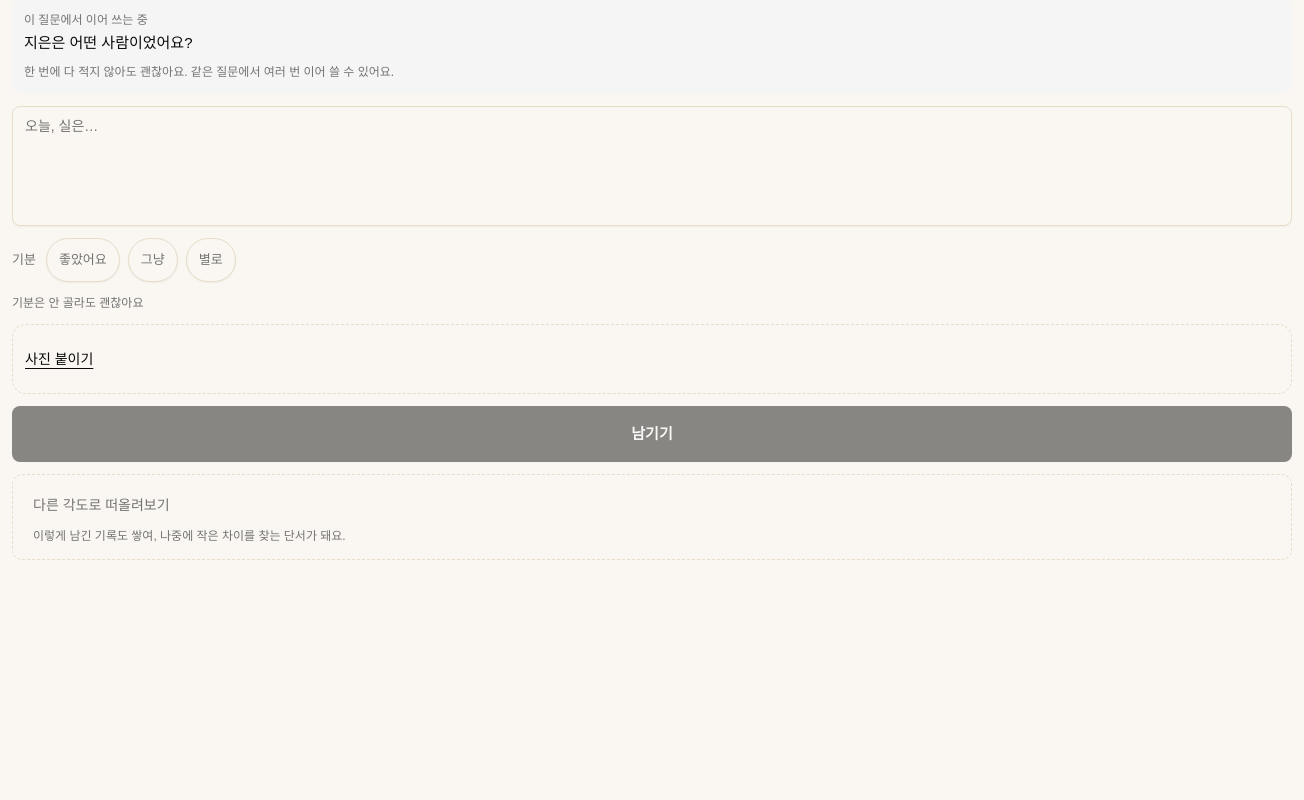
Scenario: RecordForm › 원할 때만 생각 단서를 한 가지씩 바꿔 보여준다
This screenshot has width=1304, height=800.
Expected: the text "같이 떠오르는 장면이 있나요?" is not shown
Click the button "다른 각도로 떠올려보기" at (101, 505), box [25, 483, 178, 527]
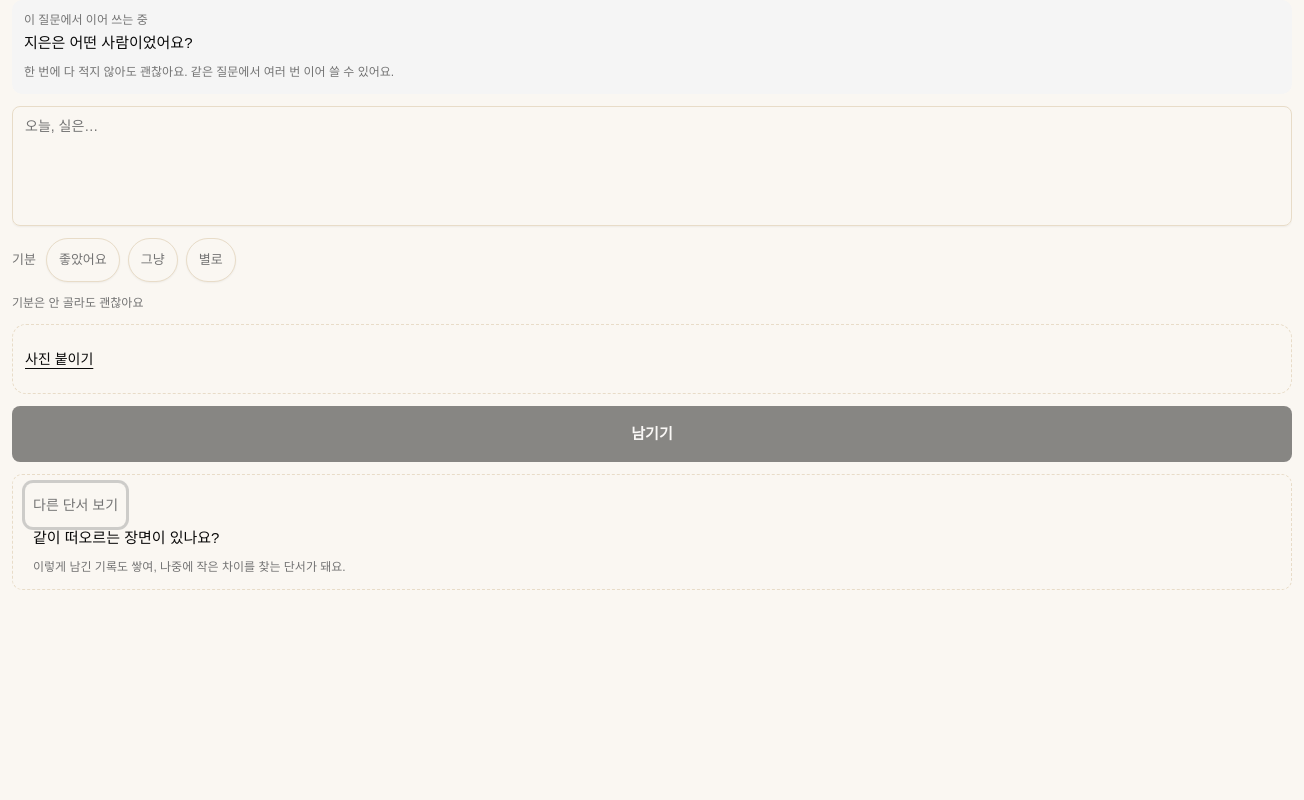
Now the text "같이 떠오르는 장면이 있나요?" is shown, box [33, 529, 220, 546]
Click the button "다른 단서 보기" at (76, 505), box [25, 483, 126, 527]
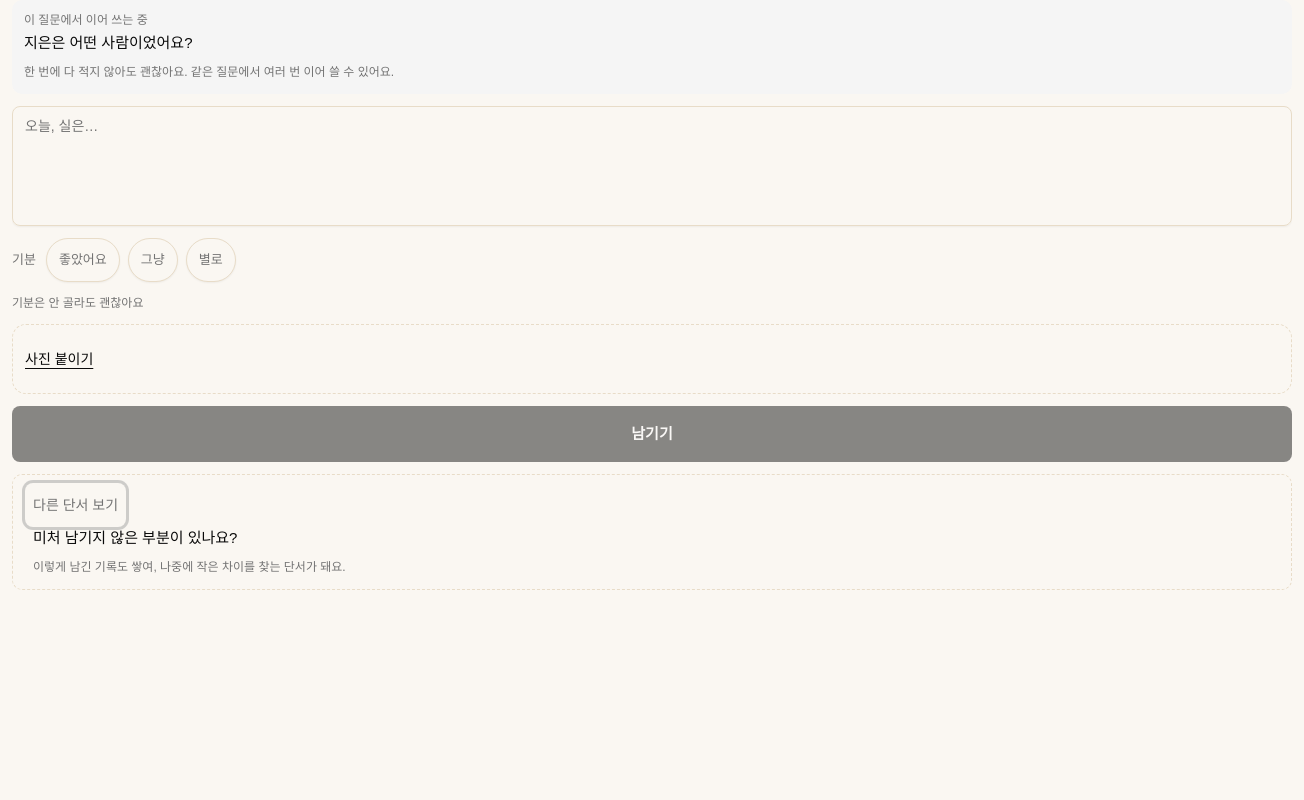
Now the text "미처 남기지 않은 부분이 있나요?" is shown, box [33, 529, 237, 546]
